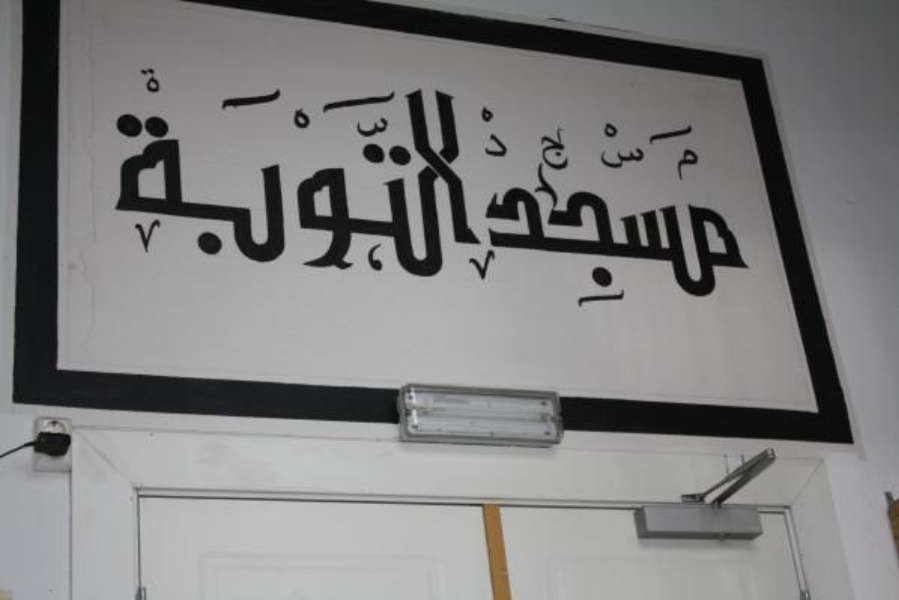text: (113, 73, 128, 288), (129, 73, 144, 288), (145, 73, 160, 288), (161, 73, 176, 288), (177, 73, 192, 288), (193, 73, 208, 288), (209, 73, 224, 288), (225, 73, 240, 288), (241, 73, 256, 288), (257, 73, 272, 288), (273, 73, 288, 288), (289, 73, 304, 288), (305, 73, 320, 288), (321, 73, 336, 288), (337, 73, 352, 288), (353, 73, 368, 288), (369, 73, 384, 288), (385, 73, 400, 288), (401, 73, 416, 288), (417, 73, 432, 288), (433, 73, 448, 288), (449, 73, 464, 288), (465, 73, 480, 288), (481, 169, 496, 322), (497, 169, 512, 322), (513, 169, 528, 322), (529, 169, 544, 322), (545, 169, 560, 322), (561, 169, 576, 322), (577, 169, 592, 322), (593, 169, 608, 322), (609, 169, 624, 322), (625, 169, 640, 322), (641, 169, 656, 322), (657, 169, 672, 322), (673, 169, 688, 322), (689, 169, 704, 322), (705, 169, 720, 322), (721, 169, 736, 322), (737, 169, 752, 322), (481, 73, 488, 288), (481, 103, 496, 161), (609, 121, 624, 176), (625, 121, 640, 176), (497, 103, 510, 161), (545, 128, 560, 173), (596, 121, 608, 176), (674, 145, 688, 184), (641, 121, 650, 176), (561, 128, 572, 173), (145, 64, 160, 97), (689, 145, 700, 184), (537, 128, 544, 173), (753, 169, 755, 322), (476, 103, 480, 161), (137, 64, 144, 97), (161, 64, 166, 97)
